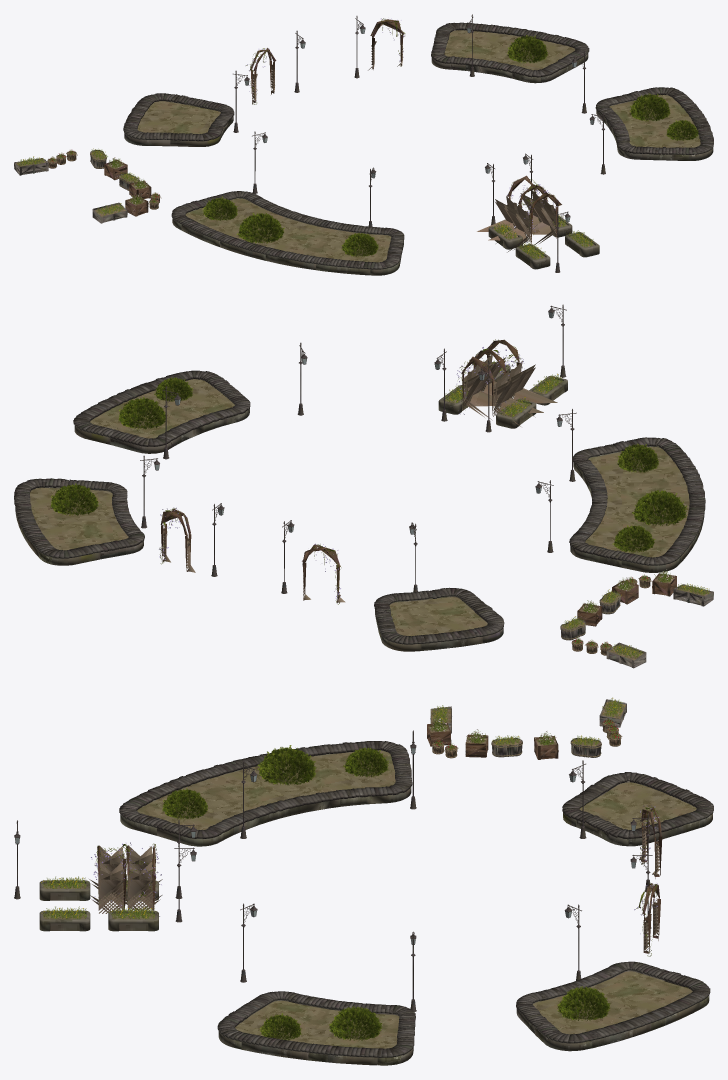
File: niwa_diorama.glb
3 renders of one model, top to bottom at view 1: azimuth 30°, elevation 25°; view 2: azimuth 150°, elevation 25°; view 3: azimuth 270°, elevation 25°, orthographic. The views are drawn at different scales.
Parts seen in each view (by area): view 1: KB3D_ENC_BldgSmUpperTownSquare_A_PlanterE, KB3D_ENC_BldgSmUpperTownSquare_A_PlanterC, KB3D_ENC_BldgSmUpperTownSquare_A_PlanterD, KB3D_ENC_BldgSmUpperTownSquare_A_PlanterB, KB3D_ENC_BldgSmUpperTownSquare_A_PlanterF, KB3D_ENC_BldgSmUpperTownSquare_A_IvyArchC, KB3D_ENC_BldgSmUpperTownSquare_A_IvyArchB, KB3D_ENC_BldgSmUpperTownSquare_A_ShrubD, KB3D_ENC_BldgSmUpperTownSquare_A_ShrubG, KB3D_ENC_BldgSmUpperTownSquare_A_ShrubE, KB3D_ENC_BldgSmUpperTownSquare_A_ShrubC, KB3D_ENC_BldgSmUpperTownSquare_A_ShrubB (+5 smaller); view 2: KB3D_ENC_BldgSmUpperTownSquare_A_PlanterE, KB3D_ENC_BldgSmUpperTownSquare_A_PlanterC, KB3D_ENC_BldgSmUpperTownSquare_A_PlanterD, KB3D_ENC_BldgSmUpperTownSquare_A_PlanterB, KB3D_ENC_BldgSmUpperTownSquare_A_IvyArchB, KB3D_ENC_BldgSmUpperTownSquare_A_PlanterF, KB3D_ENC_BldgSmUpperTownSquare_A_IvyArchC, KB3D_ENC_BldgSmUpperTownSquare_A_ShrubD, KB3D_ENC_BldgSmUpperTownSquare_A_ShrubG, KB3D_ENC_BldgSmUpperTownSquare_A_ShrubE, KB3D_ENC_BldgSmUpperTownSquare_A_ShrubC, KB3D_ENC_BldgSmUpperTownSquare_A_IvyArchA (+5 smaller); view 3: KB3D_ENC_BldgSmUpperTownSquare_A_PlanterE, KB3D_ENC_BldgSmUpperTownSquare_A_PlanterC, KB3D_ENC_BldgSmUpperTownSquare_A_PlanterD, KB3D_ENC_BldgSmUpperTownSquare_A_PlanterB, KB3D_ENC_BldgSmUpperTownSquare_A_PlanterF, KB3D_ENC_BldgSmUpperTownSquare_A_IvyArchC, KB3D_ENC_BldgSmUpperTownSquare_A_IvyArchB, KB3D_ENC_BldgSmUpperTownSquare_A_ShrubD, KB3D_ENC_BldgSmUpperTownSquare_A_ShrubG, KB3D_ENC_BldgSmUpperTownSquare_A_ShrubE, KB3D_ENC_BldgSmUpperTownSquare_A_ShrubC, KB3D_ENC_BldgSmUpperTownSquare_A_ShrubB (+6 smaller).
Boxes of the visible parts, <box> form: KB3D_ENC_BldgSmUpperTownSquare_A_PlanterE: <box>171,191,404,275</box>; KB3D_ENC_BldgSmUpperTownSquare_A_PlanterC: <box>431,22,589,83</box>; KB3D_ENC_BldgSmUpperTownSquare_A_PlanterD: <box>595,87,713,160</box>; KB3D_ENC_BldgSmUpperTownSquare_A_PlanterB: <box>123,93,234,146</box>; KB3D_ENC_BldgSmUpperTownSquare_A_PlanterF: <box>488,215,599,269</box>; KB3D_ENC_BldgSmUpperTownSquare_A_IvyArchC: <box>488,184,561,252</box>; KB3D_ENC_BldgSmUpperTownSquare_A_IvyArchB: <box>477,175,547,243</box>; KB3D_ENC_BldgSmUpperTownSquare_A_ShrubD: <box>236,213,284,243</box>; KB3D_ENC_BldgSmUpperTownSquare_A_ShrubG: <box>507,35,547,63</box>; KB3D_ENC_BldgSmUpperTownSquare_A_ShrubE: <box>630,93,670,121</box>; KB3D_ENC_BldgSmUpperTownSquare_A_ShrubC: <box>341,232,378,257</box>; KB3D_ENC_BldgSmUpperTownSquare_A_ShrubB: <box>202,196,237,220</box>; KB3D_ENC_BldgSmUpperTownSquare_A_PlanterE: <box>569,437,705,572</box>; KB3D_ENC_BldgSmUpperTownSquare_A_PlanterC: <box>14,478,144,565</box>; KB3D_ENC_BldgSmUpperTownSquare_A_PlanterD: <box>73,370,250,453</box>; KB3D_ENC_BldgSmUpperTownSquare_A_PlanterB: <box>374,587,504,651</box>; KB3D_ENC_BldgSmUpperTownSquare_A_IvyArchB: <box>456,348,543,426</box>; KB3D_ENC_BldgSmUpperTownSquare_A_PlanterF: <box>438,361,567,428</box>; KB3D_ENC_BldgSmUpperTownSquare_A_IvyArchC: <box>476,339,557,417</box>; KB3D_ENC_BldgSmUpperTownSquare_A_ShrubD: <box>631,490,686,525</box>; KB3D_ENC_BldgSmUpperTownSquare_A_ShrubG: <box>50,483,98,515</box>; KB3D_ENC_BldgSmUpperTownSquare_A_ShrubE: <box>118,397,165,429</box>; KB3D_ENC_BldgSmUpperTownSquare_A_ShrubC: <box>617,443,658,472</box>; KB3D_ENC_BldgSmUpperTownSquare_A_IvyArchA: <box>159,507,195,572</box>; KB3D_ENC_BldgSmUpperTownSquare_A_PlanterE: <box>119,741,412,846</box>; KB3D_ENC_BldgSmUpperTownSquare_A_PlanterC: <box>516,961,710,1051</box>; KB3D_ENC_BldgSmUpperTownSquare_A_PlanterD: <box>217,991,415,1065</box>; KB3D_ENC_BldgSmUpperTownSquare_A_PlanterB: <box>562,772,713,846</box>; KB3D_ENC_BldgSmUpperTownSquare_A_PlanterF: <box>39,880,158,931</box>; KB3D_ENC_BldgSmUpperTownSquare_A_IvyArchC: <box>89,843,129,913</box>; KB3D_ENC_BldgSmUpperTownSquare_A_IvyArchB: <box>122,842,162,916</box>; KB3D_ENC_BldgSmUpperTownSquare_A_ShrubD: <box>257,745,316,785</box>; KB3D_ENC_BldgSmUpperTownSquare_A_ShrubG: <box>557,986,610,1021</box>; KB3D_ENC_BldgSmUpperTownSquare_A_ShrubE: <box>328,1006,381,1040</box>; KB3D_ENC_BldgSmUpperTownSquare_A_ShrubC: <box>162,788,207,819</box>; KB3D_ENC_BldgSmUpperTownSquare_A_ShrubB: <box>343,747,388,776</box>.
Size of the model in its own units: 32.13 by 3.34 by 26.81.
Materials: 19 (19 with a texture image).
